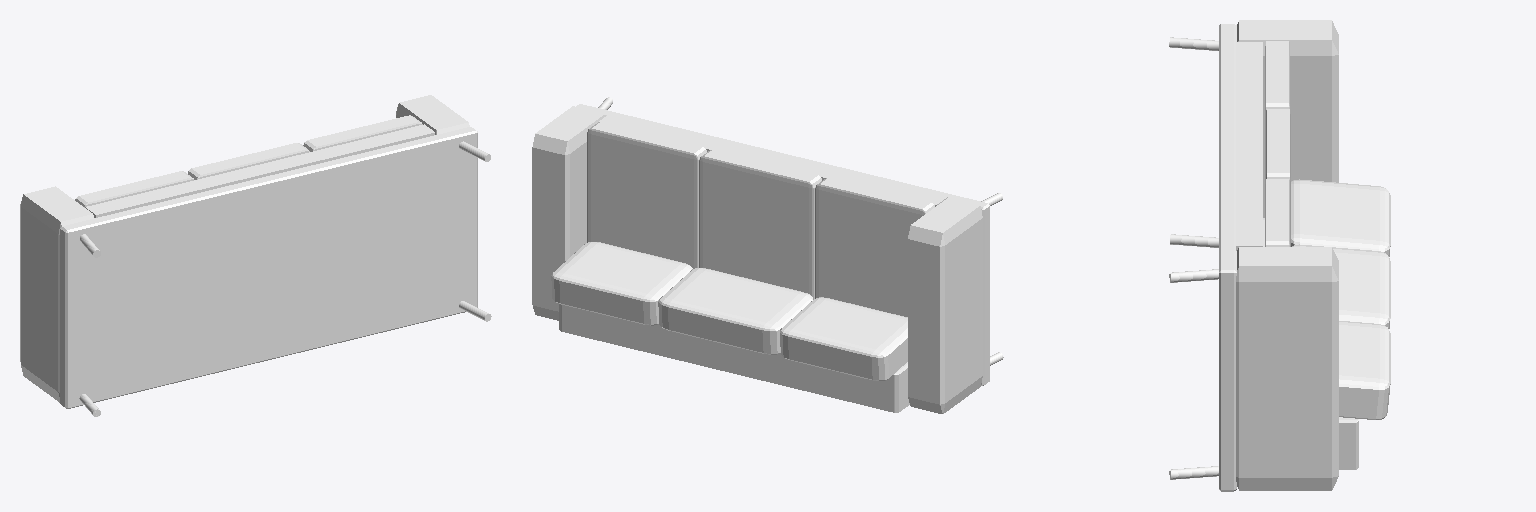
URDF robot description (simple_couch1.obj):
<robot name="simple_couch1.obj">
	<link name="_name">
		<visual>
			<origin xyz="0 0 0" rpy="0 0 0" />
			<geometry>
				<mesh filename="simple_couch1.obj" scale="1.0 1.0 1.0" />
			</geometry>
			<material name="texture">
				<color rgba="1.0 1.0 1.0 1.0" />
			</material>
		</visual>
		<collision>
			<geometry>
				<mesh filename="simple_couch1_vhacd.obj" scale="1.0 1.0 1.0" />
			</geometry>
		</collision>
		<inertial>
			<mass value="1.0" />
			<inertia ixx="1.0" ixy="0.0" ixz="0.0" iyy="1.0" iyz="0.0" izz="1.0" />
		</inertial>
	</link>
</robot>

--- Facts derived from the render (not from the file) ---
The picture shows the robot from 3 angles, left to right: view 1: azimuth 30°, elevation 25°; view 2: azimuth 150°, elevation 25°; view 3: azimuth 270°, elevation 25°; orthographic projection.
Robot: simple_couch1.obj — 1 links, 0 joints (none); root link _name; default pose: every joint at zero.
Visible links, largest first — view 1: _name; view 2: _name; view 3: _name.
Link boxes in pixels (box(x1,y1,x2,y2)): _name: box(20, 95, 491, 416); _name: box(532, 97, 1003, 413); _name: box(1169, 20, 1390, 491).
Size in the robot's own frame: 2 by 0.7519 by 0.8519 metres.
Meshes: 1 distinct files referenced, 1 mesh visuals loaded (1 OBJ).